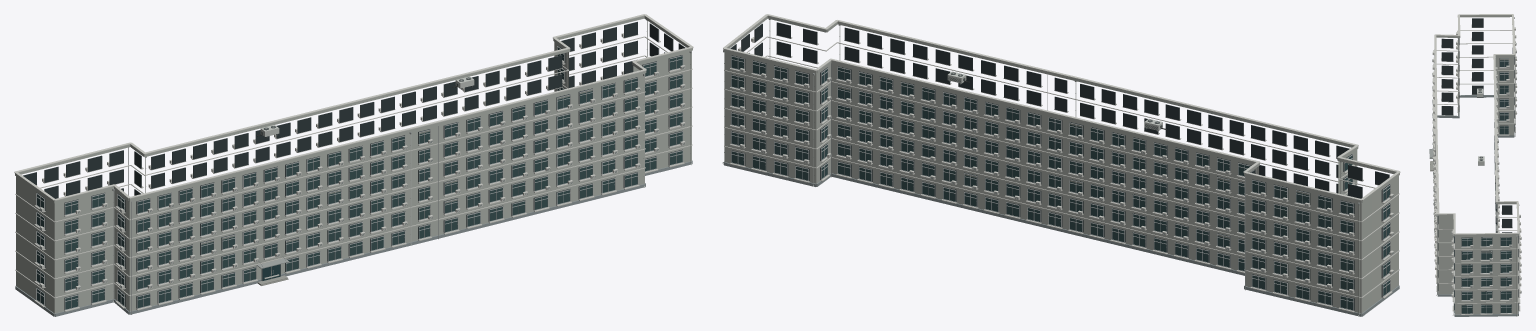
File: osm_way_223859843.glb
3 views of the same model, side by side, from view 1: azimuth 30°, elevation 25°; view 2: azimuth 150°, elevation 25°; view 3: azimuth 270°, elevation 25° (orthographic). The views are drawn at different scales.
Visible parts, largest first — view 1: Windows and facade details | 16, Architecture | 16, Roof services | 16, EXTERIOR::osm_way_223859843::rainwater and roof service deta, EXTERIOR::osm_way_223859843::inferred entry doors canopy and; view 2: Windows and facade details | 16, Architecture | 16, Roof services | 16, EXTERIOR::osm_way_223859843::rainwater and roof service deta; view 3: Windows and facade details | 16, Architecture | 16, Roof services | 16, EXTERIOR::osm_way_223859843::rainwater and roof service deta, EXTERIOR::osm_way_223859843::inferred entry doors canopy and.
Boxes of the visible parts, bbox=[...] form: Windows and facade details | 16: bbox=[23, 21, 685, 314]; Architecture | 16: bbox=[15, 16, 692, 316]; Roof services | 16: bbox=[14, 14, 693, 200]; EXTERIOR::osm_way_223859843::rainwater and roof service deta: bbox=[112, 20, 691, 302]; EXTERIOR::osm_way_223859843::inferred entry doors canopy and: bbox=[256, 257, 289, 285]; Windows and facade details | 16: bbox=[729, 22, 1393, 312]; Architecture | 16: bbox=[723, 16, 1399, 316]; Roof services | 16: bbox=[723, 14, 1400, 200]; EXTERIOR::osm_way_223859843::rainwater and roof service deta: bbox=[722, 19, 1359, 316]; Windows and facade details | 16: bbox=[1432, 18, 1521, 314]; Architecture | 16: bbox=[1436, 15, 1519, 316]; Roof services | 16: bbox=[1434, 14, 1519, 234]; EXTERIOR::osm_way_223859843::rainwater and roof service deta: bbox=[1435, 17, 1519, 316]; EXTERIOR::osm_way_223859843::inferred entry doors canopy and: bbox=[1429, 148, 1433, 171].
Size of the model in its own units: 113 by 20.58 by 19.89.
